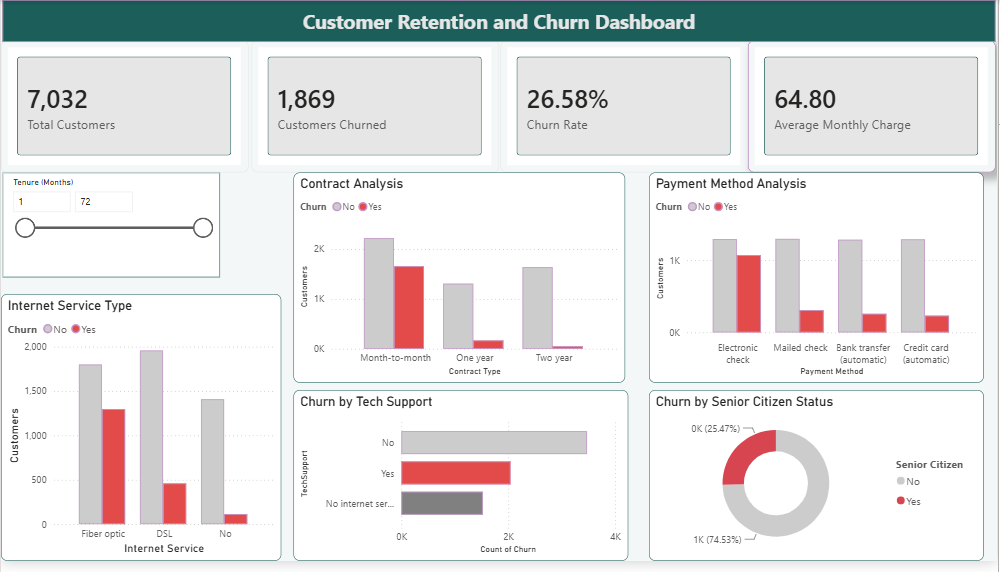

What the dashboard file says about the page in this screenshot:
{"tool":"powerbi","page":{"name":"Page 1","canvas":[1280,720],"ordinal":0},"visuals":[{"type":"cardVisual","fields":{"Data":["telco_churn_cleaned.Customers Churned"]},"box":[321.8,52,317.9,169.6],"z":0},{"type":"cardVisual","fields":{"Data":["telco_churn_cleaned.Churn Rate"]},"box":[641.6,52,317.9,169.6],"z":1000},{"type":"cardVisual","fields":{"Data":["Avg(telco_churn_cleaned.MonthlyCharges)"]},"box":[959.5,52,317.9,169.6],"z":2000},{"type":"clusteredColumnChart","title":"Contract Analysis","fields":{"Category":["telco_churn_cleaned.Contract"],"Series":["telco_churn_cleaned.Churn"],"Y":["Count(telco_churn_cleaned.customerID)"]},"box":[375.7,221.6,425.8,269.7],"z":3000},{"type":"clusteredColumnChart","title":"Internet Service Type","fields":{"Category":["telco_churn_cleaned.InternetService"],"Series":["telco_churn_cleaned.Churn"],"Y":["Count(telco_churn_cleaned.customerID)"]},"box":[0,377.6,360.3,343],"z":4000},{"type":"clusteredColumnChart","title":"Payment Method Analysis","fields":{"Y":["CountNonNull(telco_churn_cleaned.customerID)"],"Category":["telco_churn_cleaned.PaymentMethod"],"Series":["telco_churn_cleaned.Churn"]},"box":[832.4,221.6,429.7,269.7],"z":5000},{"type":"cardVisual","fields":{"Data":["telco_churn_cleaned.Total Customers"]},"box":[0,52,317.9,169.6],"z":6000},{"type":"clusteredBarChart","title":"Churn by Tech Support","fields":{"Category":["telco_churn_cleaned.TechSupport"],"Y":["CountNonNull(telco_churn_cleaned.Churn)"]},"box":[375.7,501,429.7,219.7],"z":7000},{"type":"donutChart","title":"Churn by Senior Citizen Status","fields":{"Y":["telco_churn_cleaned.Total Customers"],"Category":["telco_churn_cleaned.Senior Citizen"]},"box":[832.4,501,429.7,219.7],"z":8000},{"type":"shape","box":[1.9,0,1275.5,53.9],"z":9000},{"type":"slicer","title":"Tenure (Months)","fields":{"Values":["telco_churn_cleaned.tenure"]},"box":[1.9,221.6,279.4,134.9],"z":9001}]}

Visuals, with their boxes in screenshot pixels (x1, y1, x2, y2), scaled from the page's 1280x720 canvas onto the 1000x572 screenshot:
cardVisual - telco_churn_cleaned.Customers Churned: l=251, t=41, r=500, b=176
cardVisual - telco_churn_cleaned.Churn Rate: l=501, t=41, r=750, b=176
cardVisual - Avg(telco_churn_cleaned.MonthlyCharges): l=750, t=41, r=998, b=176
"Contract Analysis" clusteredColumnChart: l=294, t=176, r=626, b=390
"Internet Service Type" clusteredColumnChart: l=0, t=300, r=281, b=571
"Payment Method Analysis" clusteredColumnChart: l=650, t=176, r=986, b=390
cardVisual - telco_churn_cleaned.Total Customers: l=0, t=41, r=248, b=176
"Churn by Tech Support" clusteredBarChart: l=294, t=398, r=629, b=571
"Churn by Senior Citizen Status" donutChart: l=650, t=398, r=986, b=571
shape: l=1, t=0, r=998, b=43
"Tenure (Months)" slicer: l=1, t=176, r=220, b=283
